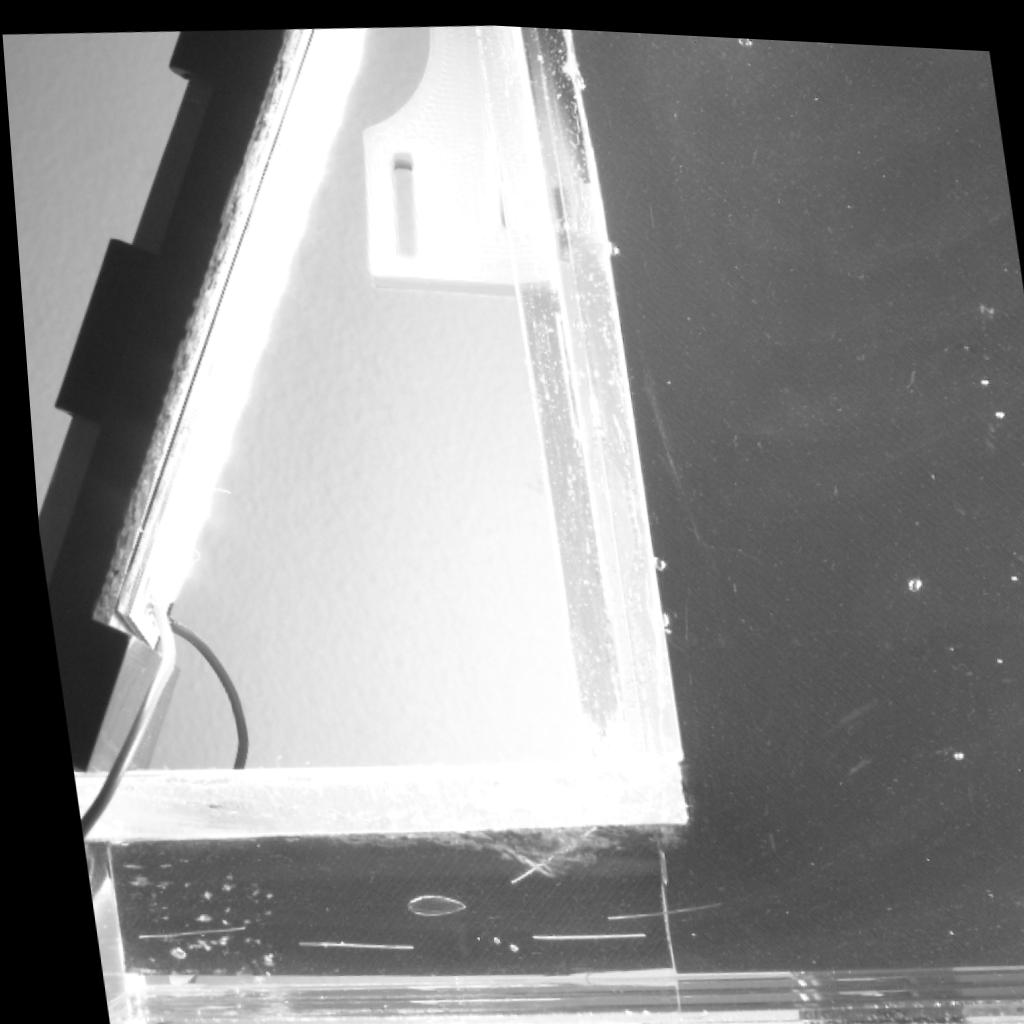Fiber: (496, 819, 587, 884), (592, 891, 708, 917), (277, 934, 398, 953), (123, 923, 233, 940), (516, 924, 634, 936)
